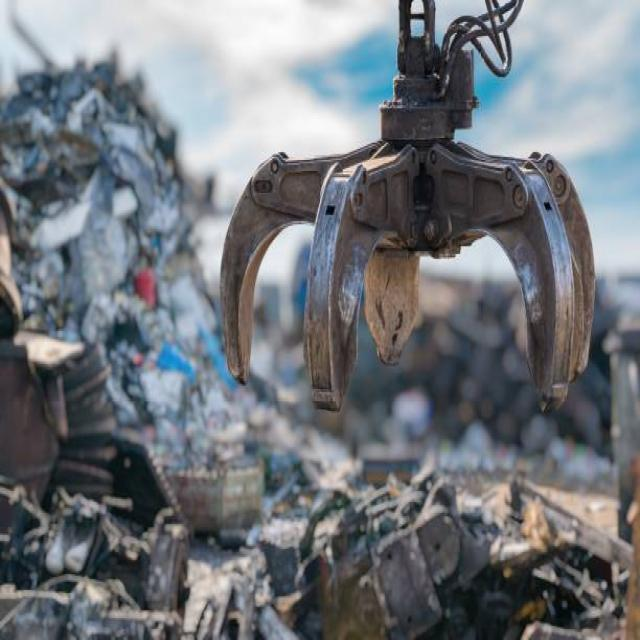metal: (11, 82, 242, 440), (26, 472, 409, 601)
